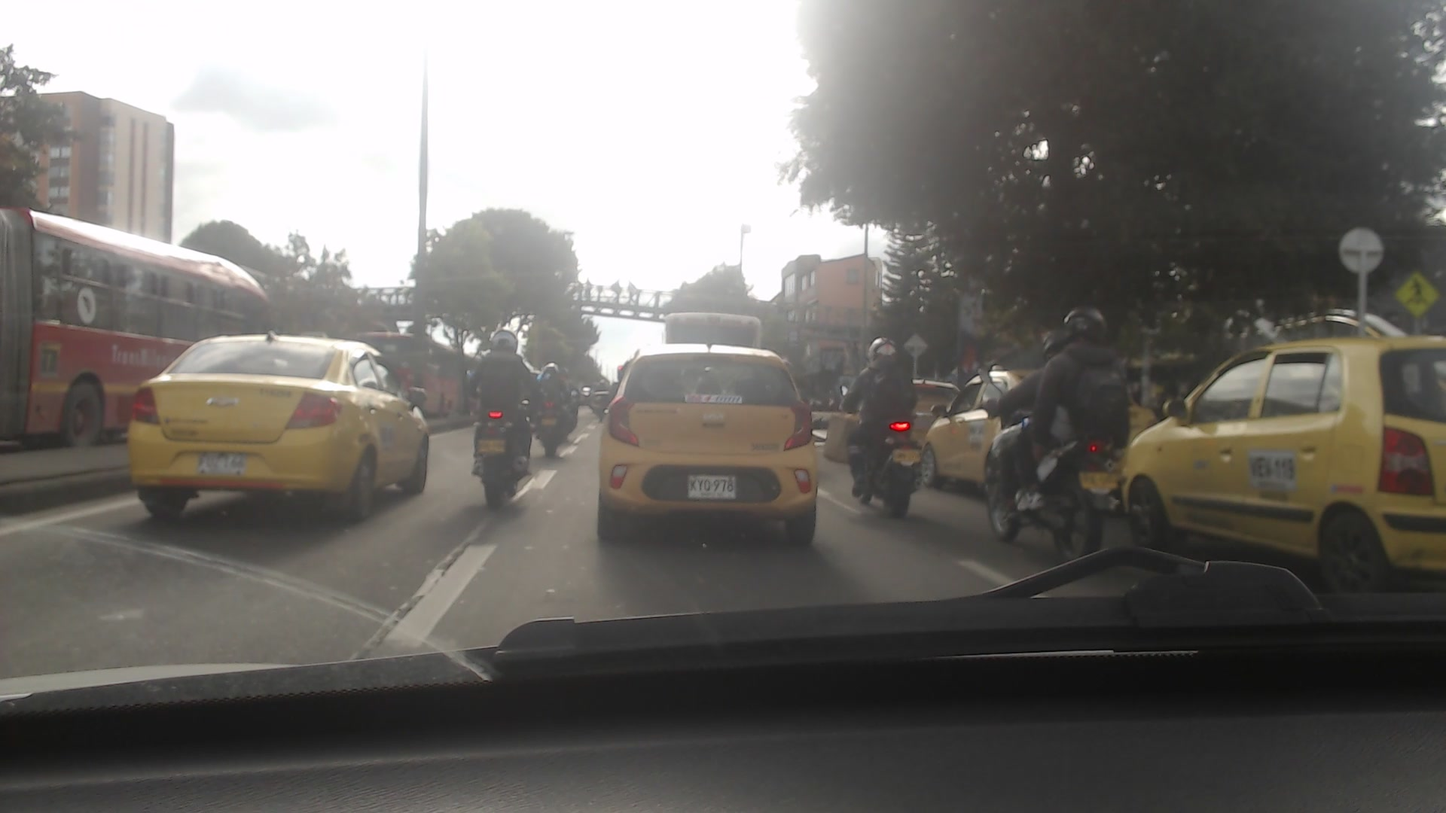car: (1136, 336, 1445, 589), (113, 326, 430, 527), (598, 350, 819, 544), (928, 359, 1146, 484)
motorcycle: (975, 411, 1133, 566), (840, 399, 935, 521), (458, 405, 542, 515), (528, 391, 578, 452)
person: (1029, 307, 1131, 485), (847, 339, 934, 508), (471, 327, 536, 513), (541, 357, 574, 450)
